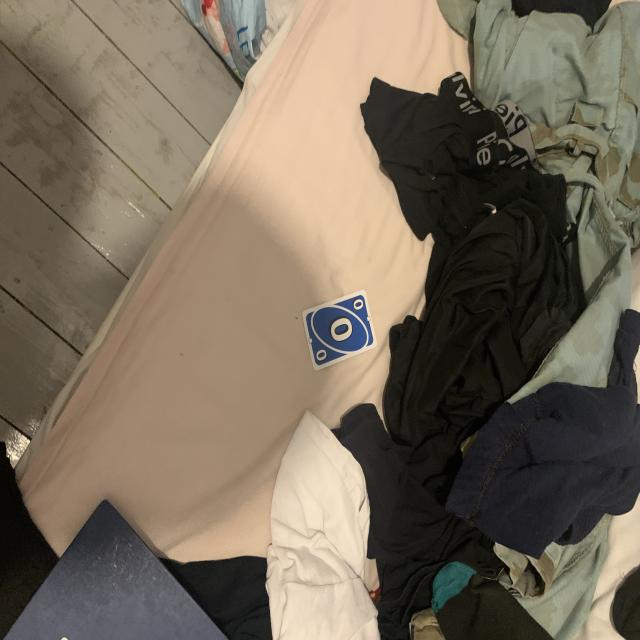lblue-0: (351, 297, 365, 312)
